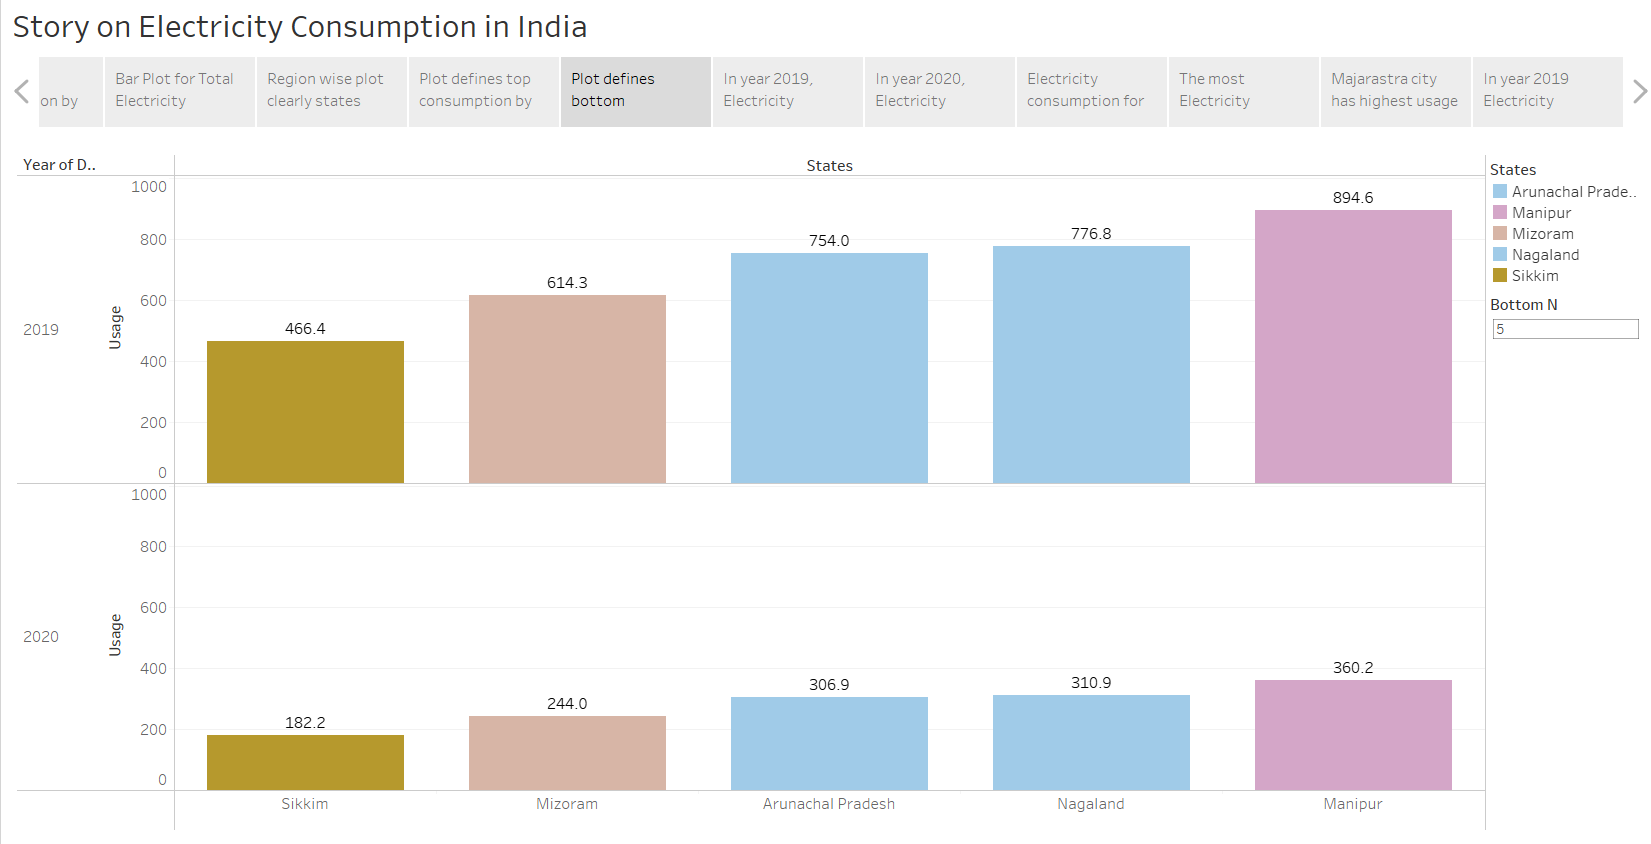

Layout of this report page (visuals, bound fields, positions):
{"tool":"tableau","page":{"name":"Dashboard 2","canvas":[1000,1000],"units":"permille","ordinal":1},"visuals":[{"type":"worksheet","title":"Region wise state consumption","mark":"Automatic","rows":["Regions","States"],"cols":["Dates","Usage"],"box":[0,0,353.1,998.8]},{"type":"worksheet","title":"Top N","mark":"Automatic","rows":["Dates","Usage"],"cols":["States"],"box":[354.9,5.9,536.5,499.4]},{"type":"legend","title":"Region wise state consumption","param":"[federated.0f68l961e6sr3f194c8j3160mdyu].[none:States:nk]","box":[898.8,9.4,96.4,849.6]},{"type":"worksheet","title":"Bottom N","mark":"Automatic","rows":["Dates","Usage"],"cols":["States"],"box":[353.1,512.3,532.9,448.9]},{"type":"parameter","param":"[Parameters].[Parameter 1]","box":[898.8,859,96.4,65.8]},{"type":"parameter","param":"[Parameters].[Parameter 2]","box":[898.8,924.8,96.4,65.8]},{"type":"dashboard-object","box":[660.2,934.2,99,61.1]},{"type":"dashboard-object","box":[430.3,935.4,99,61.1]}]}

Visuals, with their boxes on the dashboard's canvas, which has no fixed pixel size, in thousandths of its width and height (x1, y1, x2, y2). These are canvas units, not pixel positions in the 1651x844 screenshot, which may show the page scaled, cropped or inside an application window:
"Region wise state consumption" worksheet: <bbox>0, 0, 353, 999</bbox>
"Top N" worksheet: <bbox>355, 6, 891, 505</bbox>
"Region wise state consumption" legend: <bbox>899, 9, 995, 859</bbox>
"Bottom N" worksheet: <bbox>353, 512, 886, 961</bbox>
parameter: <bbox>899, 859, 995, 925</bbox>
parameter: <bbox>899, 925, 995, 991</bbox>
dashboard-object: <bbox>660, 934, 759, 995</bbox>
dashboard-object: <bbox>430, 935, 529, 996</bbox>
